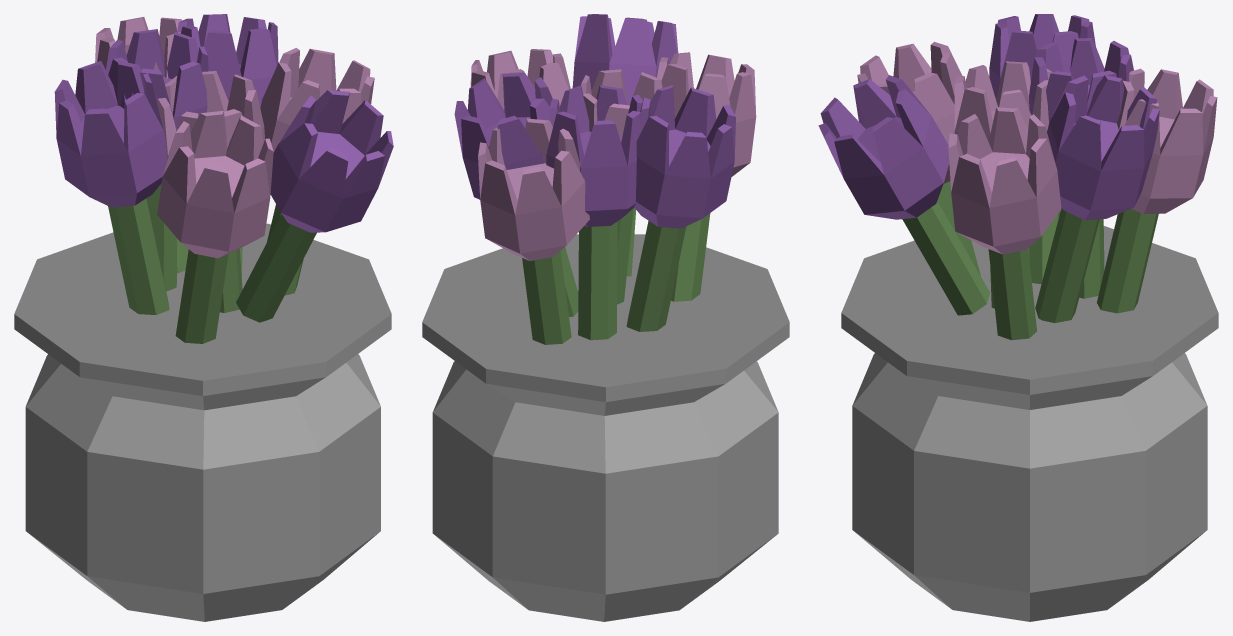
The model's file is vaas.fbx.
3 renders of one model, left to right at view 1: azimuth 30°, elevation 25°; view 2: azimuth 150°, elevation 25°; view 3: azimuth 270°, elevation 25°, orthographic. The views are drawn at different scales.
Visible parts, largest first — view 1: vaas; view 2: vaas; view 3: vaas.
Part boxes in pixels (<box>): vaas: <box>14,14,393,621</box>; vaas: <box>422,14,789,621</box>; vaas: <box>818,14,1218,621</box>.
Size of the model in its own units: 1.15 by 1.74 by 1.24.
